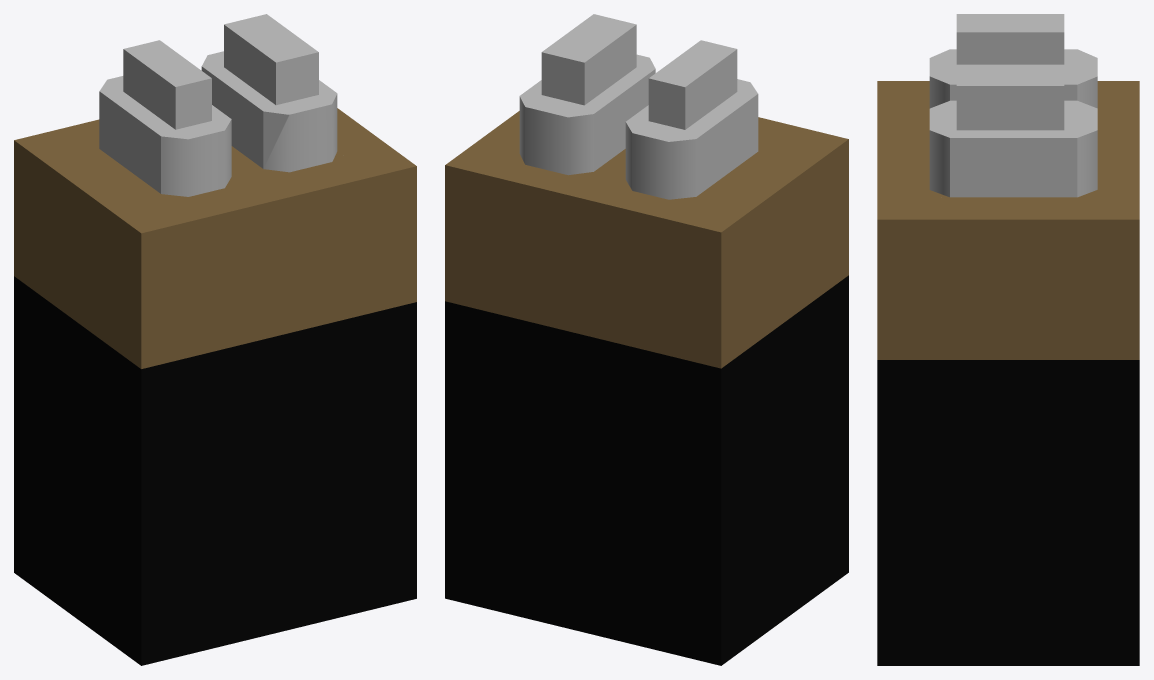
Rendered from batteryFBX.fbx.
3 renders of one model, left to right at view 1: azimuth 30°, elevation 25°; view 2: azimuth 150°, elevation 25°; view 3: azimuth 270°, elevation 25°, orthographic. The views are drawn at different scales.
Visible parts, largest first — view 1: pCube1; view 2: pCube1; view 3: pCube1.
Part boxes in pixels (x1,y1,x2,y2): pCube1: (14,14,416,665); pCube1: (445,14,848,665); pCube1: (877,14,1139,665).
Bounding box in the file's own units: 1 × 1.85 × 0.8.
